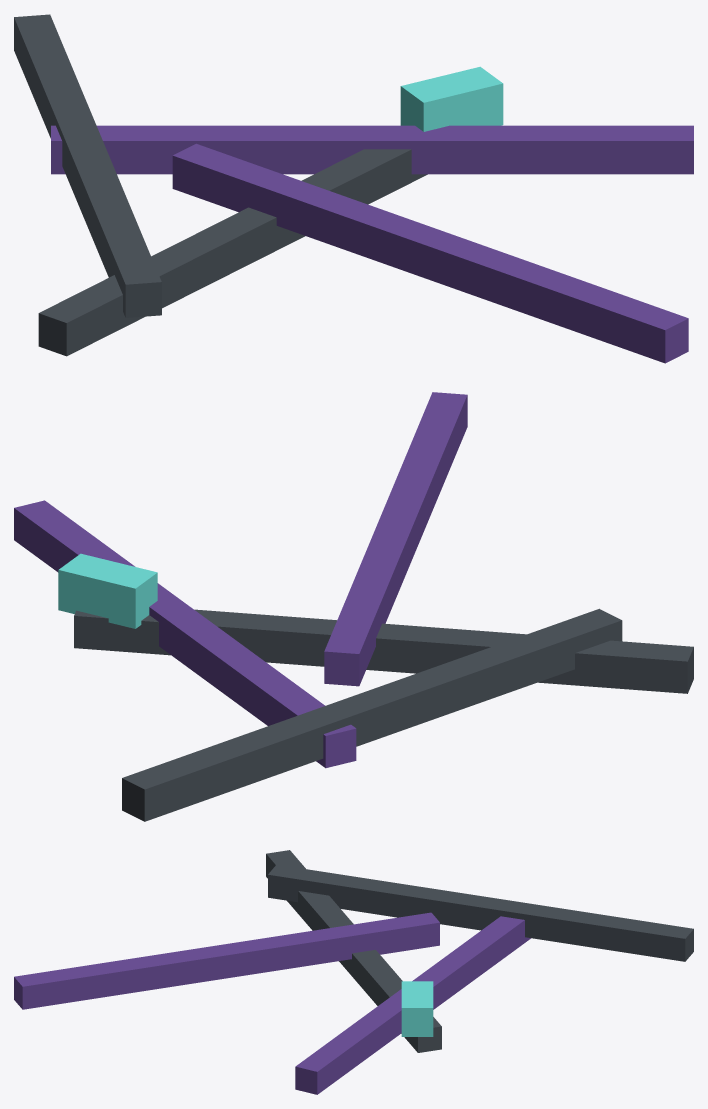
File: SH_CableTangle_01.glb
The picture shows the model from 3 angles, top to bottom: view 1: azimuth 30°, elevation 25°; view 2: azimuth 150°, elevation 25°; view 3: azimuth 270°, elevation 25°; orthographic projection. The views are drawn at different scales.
Parts seen in each view (by area): view 1: SH_CableTangle_01; view 2: SH_CableTangle_01; view 3: SH_CableTangle_01.
Boxes of the visible parts, box(x1,y1,x2,y2) form: SH_CableTangle_01: box(14, 14, 693, 363); SH_CableTangle_01: box(14, 392, 693, 821); SH_CableTangle_01: box(14, 850, 693, 1094).
Size of the model in its own units: 0.8488 by 0.085 by 1.07.
1 material, 1 textured.
